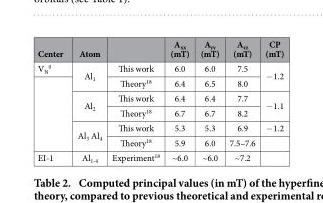table: (36, 37, 283, 163)
table column: (106, 37, 164, 163), (69, 37, 106, 163), (223, 37, 259, 163), (36, 37, 69, 163), (164, 37, 194, 163), (194, 37, 223, 163), (259, 37, 283, 163)
table column header: (36, 37, 283, 60)
table row: (36, 37, 283, 60), (36, 60, 283, 75), (36, 75, 283, 90), (36, 90, 283, 105), (36, 105, 283, 120), (36, 134, 283, 149), (36, 120, 283, 134), (36, 149, 283, 163)
table spanning cell: (36, 60, 69, 149), (69, 60, 106, 90), (69, 90, 106, 120), (69, 120, 106, 149), (259, 60, 283, 90), (259, 90, 283, 120)
